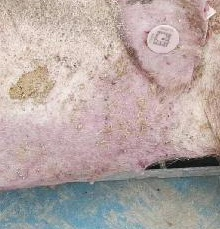text: (137, 12, 185, 62)
